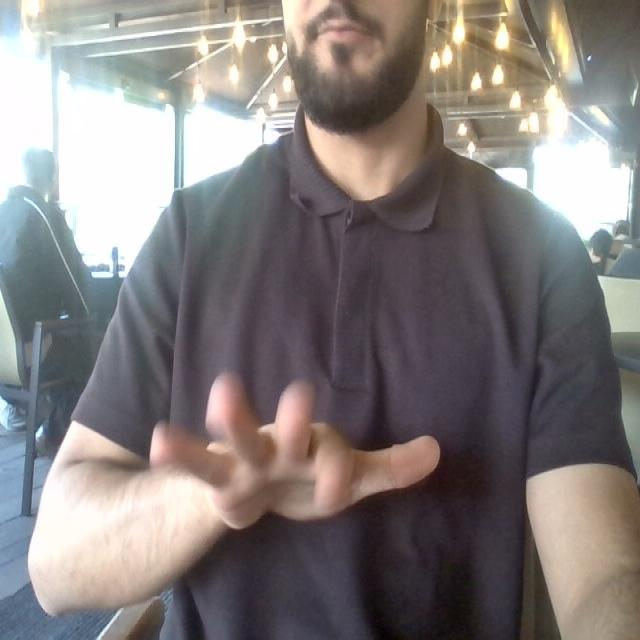Hand: (150, 375, 439, 527)
